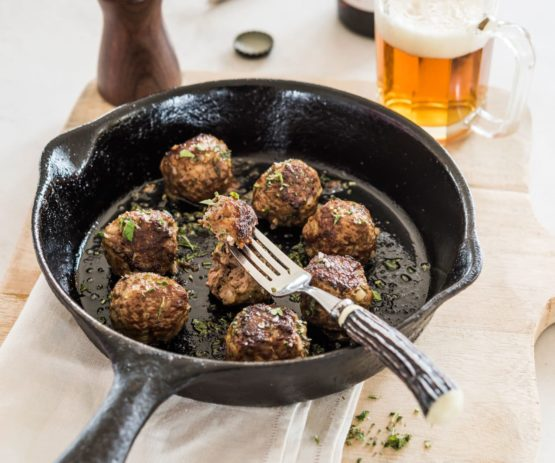meatballs: (227, 302, 304, 361), (104, 210, 176, 272), (115, 270, 187, 331), (308, 250, 371, 319), (161, 140, 231, 199), (255, 161, 315, 223), (311, 202, 372, 254)
